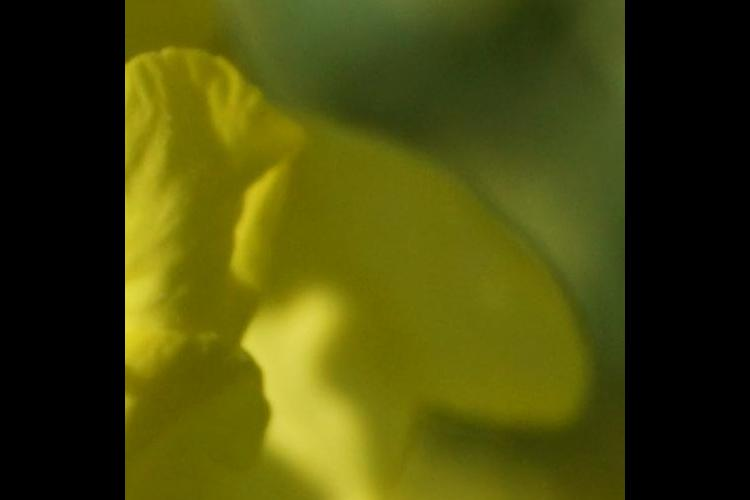yellow: (139, 20, 285, 500)
